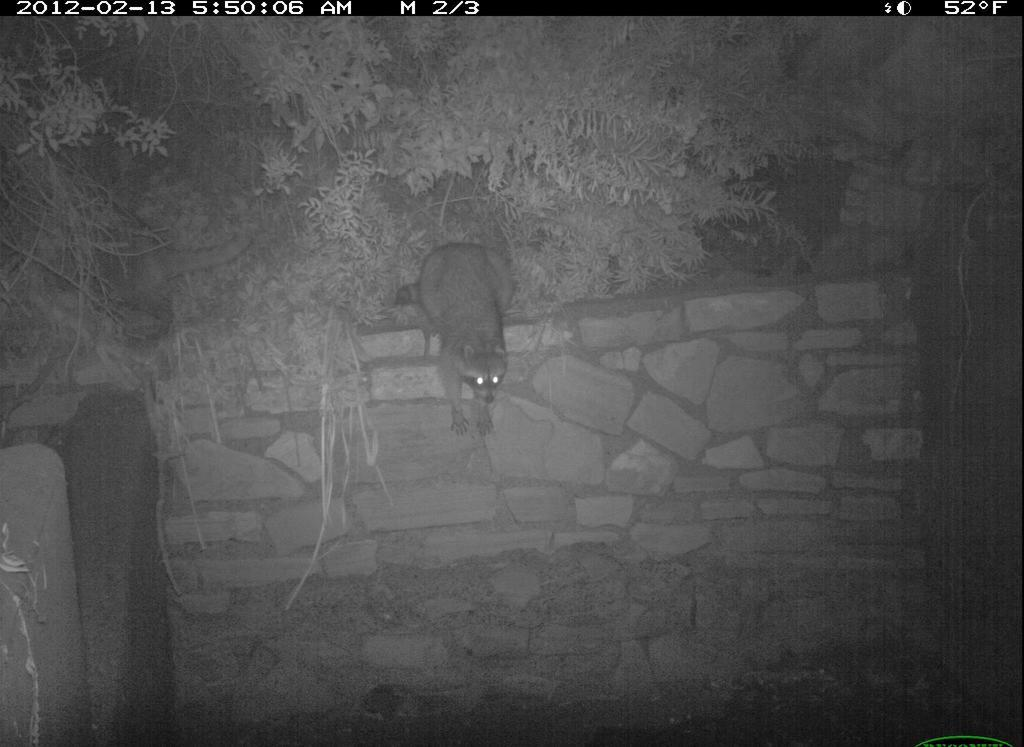raccoon: (381, 227, 530, 447)
